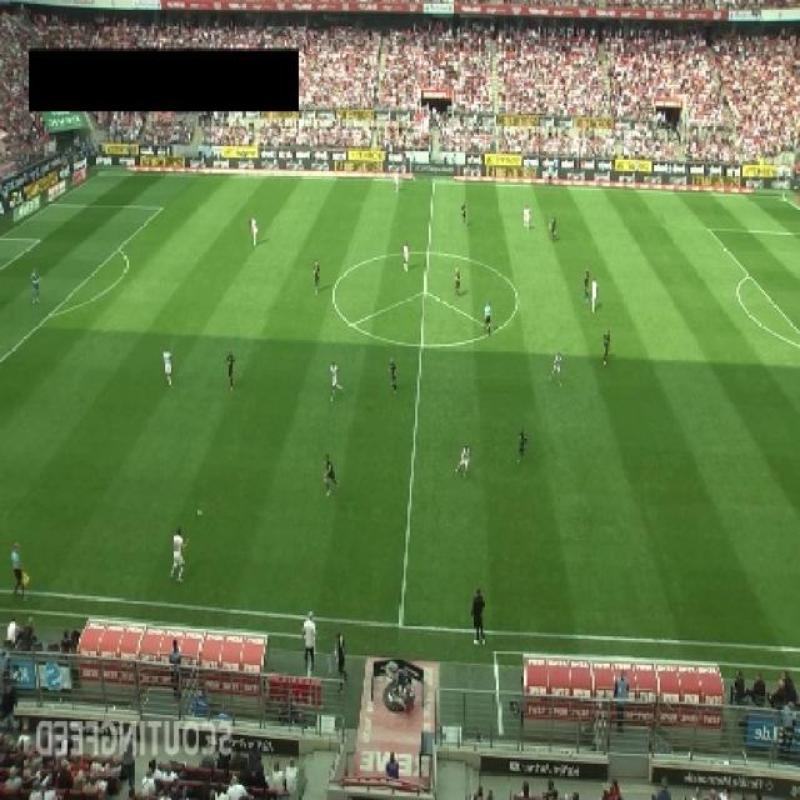1: (767, 184, 791, 204), (94, 161, 114, 179)
10: (738, 262, 758, 282), (110, 241, 126, 258)
11: (42, 306, 60, 326)
13: (422, 168, 443, 188)
14: (418, 238, 440, 264)
15: (412, 328, 434, 358)
16: (386, 604, 420, 638)
2: (44, 194, 60, 210)
7: (29, 230, 49, 250)
9: (700, 217, 719, 237), (154, 198, 172, 218)
c: (323, 280, 347, 305), (509, 288, 525, 316)
